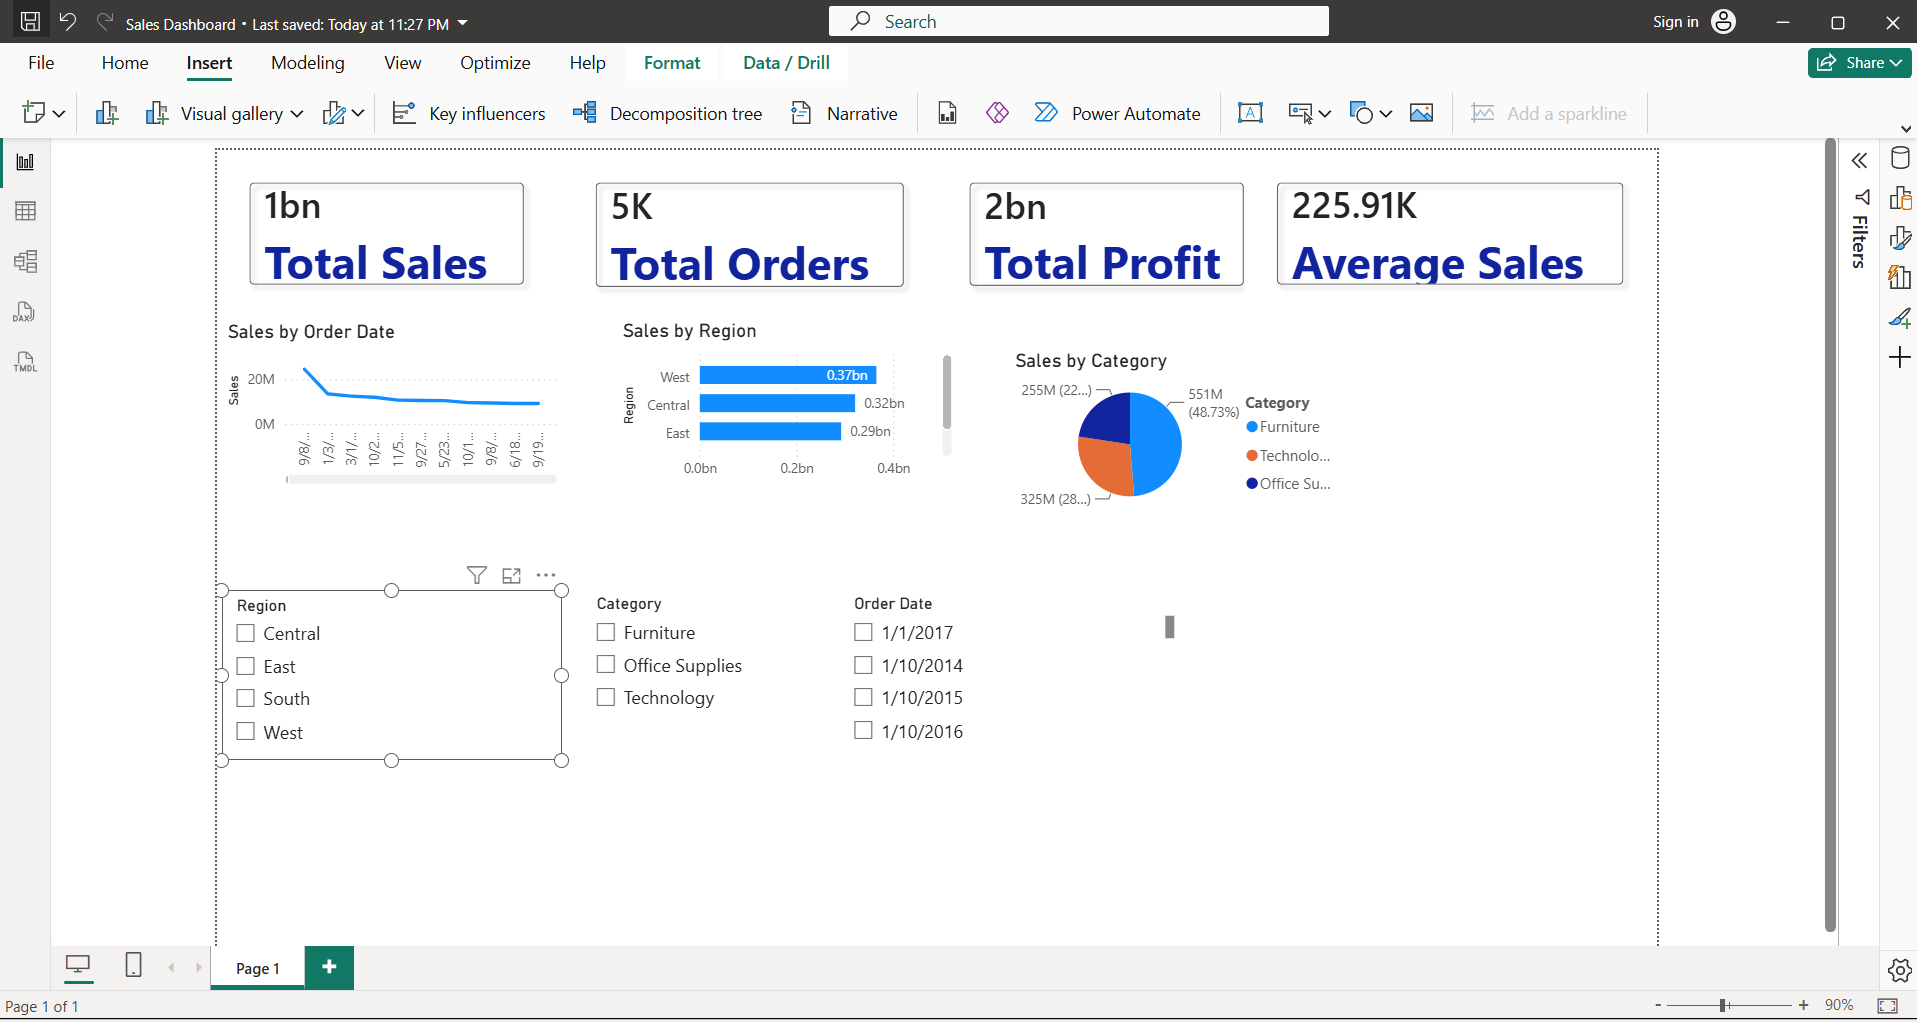

What the dashboard file says about the page in this screenshot:
{"tool":"powerbi","page":{"name":"Page 1","canvas":[1280,720],"ordinal":0},"visuals":[{"type":"cardVisual","fields":{"Data":["Data.Total Orders"]},"box":[307.9,0,332.8,151.3],"z":0},{"type":"cardVisual","fields":{"Data":["Sum(Data.Profit)"]},"box":[640,0,302.9,150.8],"z":1000},{"type":"cardVisual","fields":{"Data":["Data.Total Sales"]},"box":[0,0,302.9,149.3],"z":2000},{"type":"cardVisual","fields":{"Data":["Data.Average Sales"]},"box":[913.1,0,366.9,149.3],"z":3000},{"type":"lineChart","fields":{"Category":["Data.Order Date"],"Y":["Sum(Data.Sales)"]},"box":[4.3,150.8,302.9,150.8],"z":4000},{"type":"clusteredBarChart","fields":{"Category":["Data.Region"],"Y":["Sum(Data.Sales)"]},"box":[356,149.5,302.6,151.3],"z":5000},{"type":"pieChart","fields":{"Category":["Data.Category"],"Y":["Sum(Data.Sales)"]},"box":[704.8,176.2,302.6,151.3],"z":6000},{"type":"slicer","fields":{"Values":["Data.Region"]},"box":[4,391.5,303,151],"z":7000},{"type":"slicer","fields":{"Values":["Data.Category"]},"box":[323.9,389.8,302.6,151.3],"z":8000},{"type":"slicer","fields":{"Values":["Data.Order Date"]},"box":[553.5,389.8,302.6,151.3],"z":9000}]}

Visuals, with their boxes on the page's 1280x720 design canvas (x1, y1, x2, y2). These are canvas units, not pixel positions in the 1917x1022 screenshot, which may show the page scaled, cropped or inside an application window:
cardVisual - Data.Total Orders: x1=308, y1=0, x2=641, y2=151
cardVisual - Sum(Data.Profit): x1=640, y1=0, x2=943, y2=151
cardVisual - Data.Total Sales: x1=0, y1=0, x2=303, y2=149
cardVisual - Data.Average Sales: x1=913, y1=0, x2=1280, y2=149
lineChart - Data.Order Date x Sum(Data.Sales): x1=4, y1=151, x2=307, y2=302
clusteredBarChart - Data.Region x Sum(Data.Sales): x1=356, y1=150, x2=659, y2=301
pieChart - Data.Category x Sum(Data.Sales): x1=705, y1=176, x2=1007, y2=328
slicer - Data.Region: x1=4, y1=392, x2=307, y2=542
slicer - Data.Category: x1=324, y1=390, x2=626, y2=541
slicer - Data.Order Date: x1=554, y1=390, x2=856, y2=541
